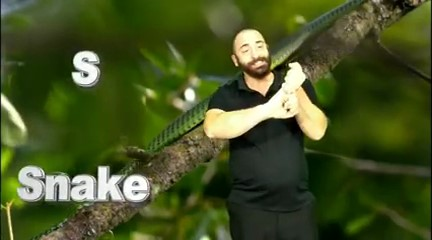S: (271, 59, 310, 121)
